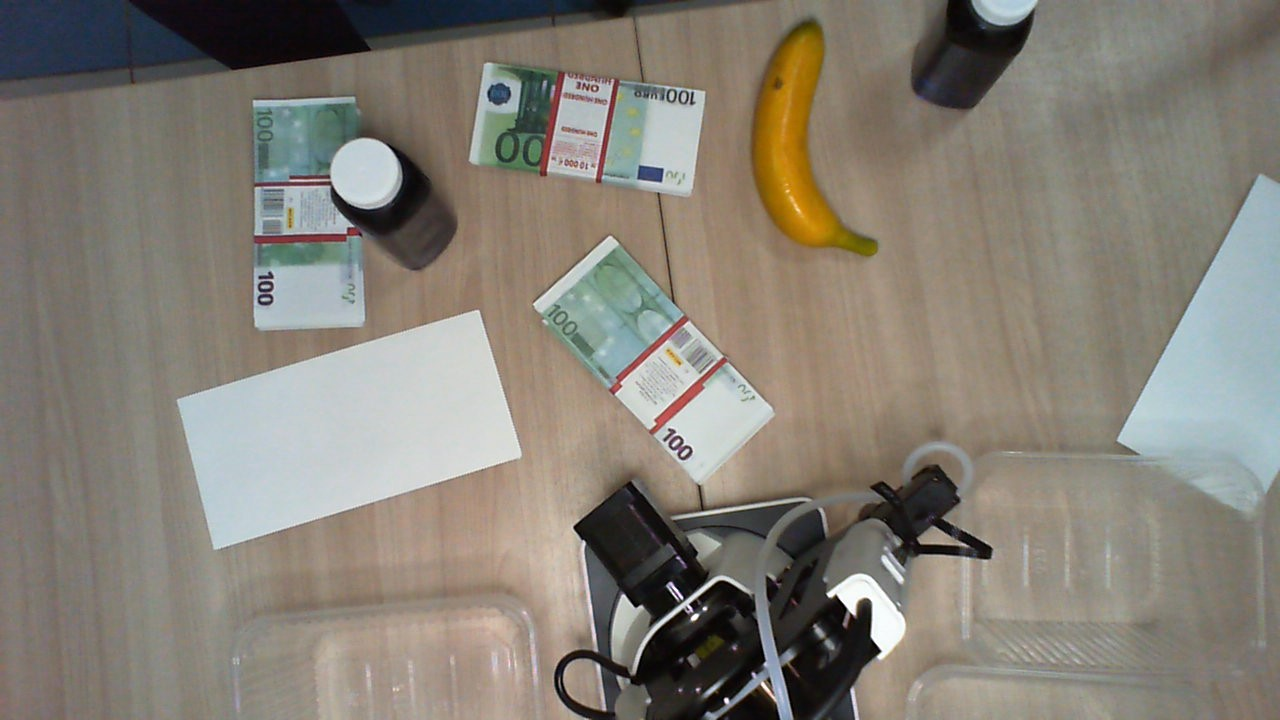banana: (751, 17, 877, 260)
bottle: (329, 136, 419, 228), (945, 1, 1036, 56)
convert: (175, 307, 520, 551), (1115, 176, 1280, 515)
money: (533, 233, 773, 486), (468, 62, 706, 196), (250, 95, 367, 336)
